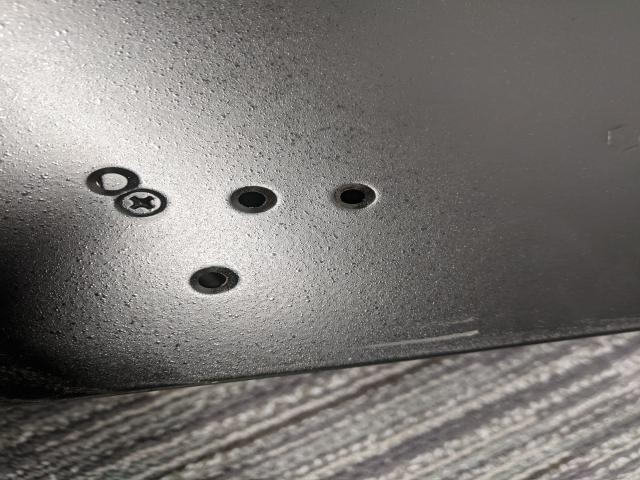CRS: (120, 189, 163, 217)
